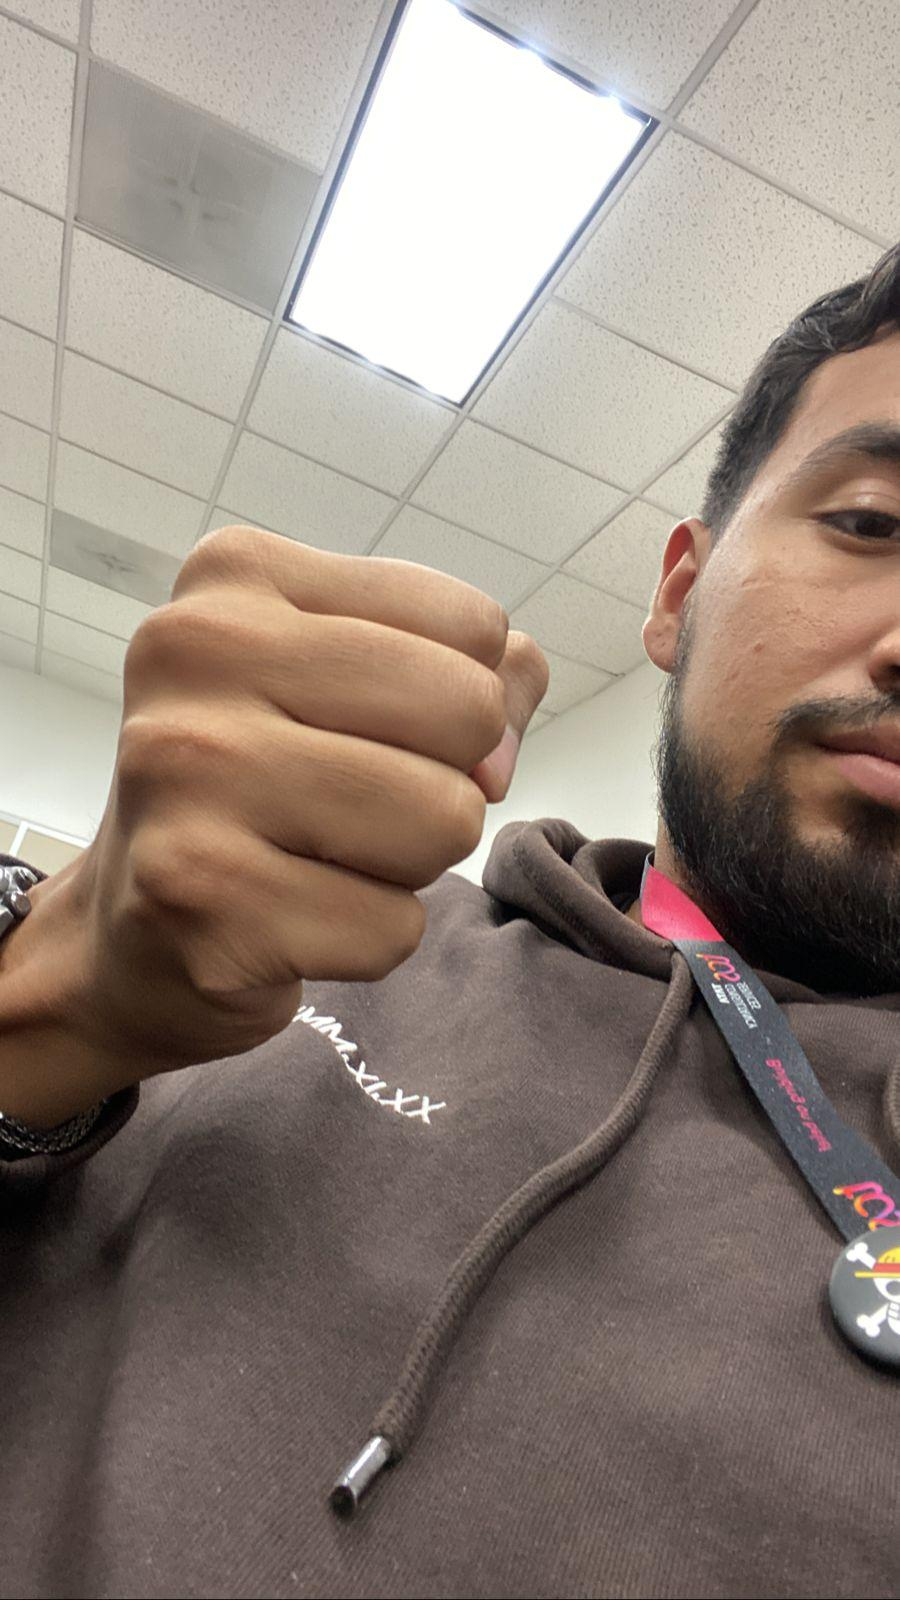Stone: (16, 487, 584, 1157)
